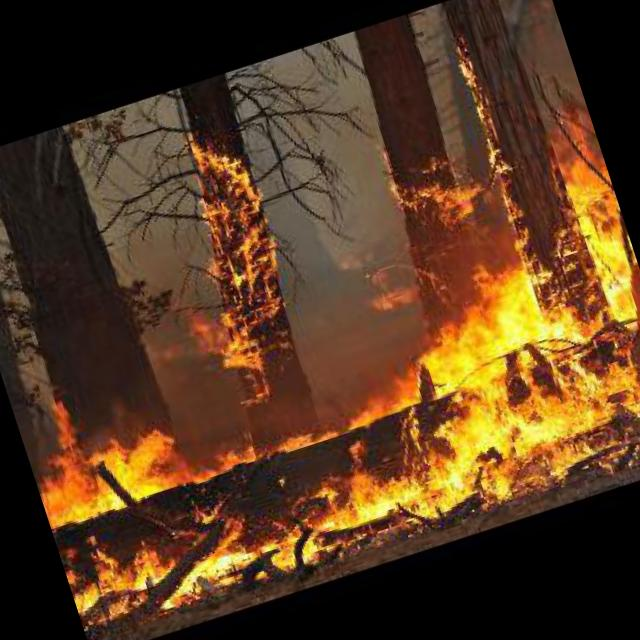fire: (17, 227, 640, 640), (152, 124, 304, 366), (440, 28, 550, 264), (366, 127, 498, 257), (537, 110, 626, 244)
